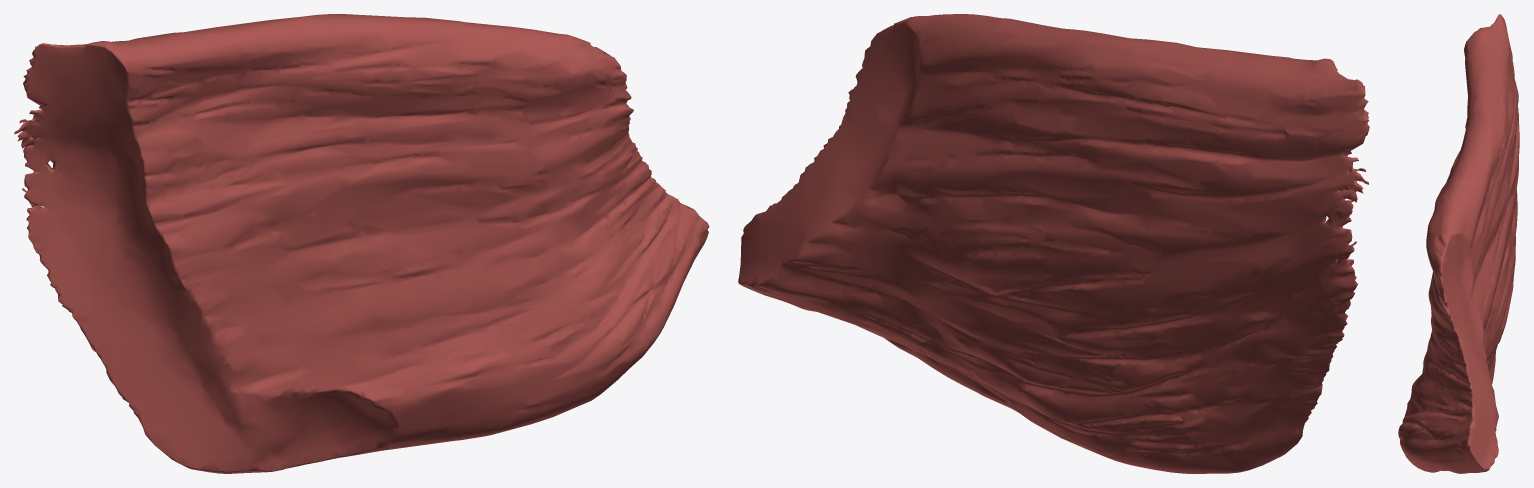
Rendered from FMA22338.glb.
The picture shows the model from 3 angles, left to right: view 1: azimuth 30°, elevation 25°; view 2: azimuth 150°, elevation 25°; view 3: azimuth 270°, elevation 25°; orthographic projection. The views are drawn at different scales.
Visible parts, largest first — view 1: FMA22338; view 2: FMA22338; view 3: FMA22338.
Boxes of the visible parts, bbox=[...] form: FMA22338: bbox=[14, 14, 709, 473]; FMA22338: bbox=[738, 14, 1369, 473]; FMA22338: bbox=[1398, 14, 1519, 473].
Size of the model in its own units: 0.0665 by 0.0443 by 0.0156.
